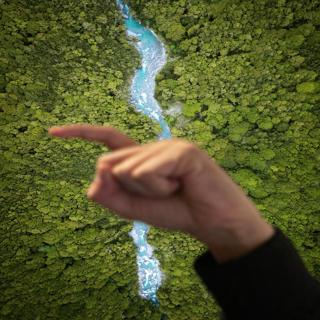WHY: (42, 109, 266, 255)
